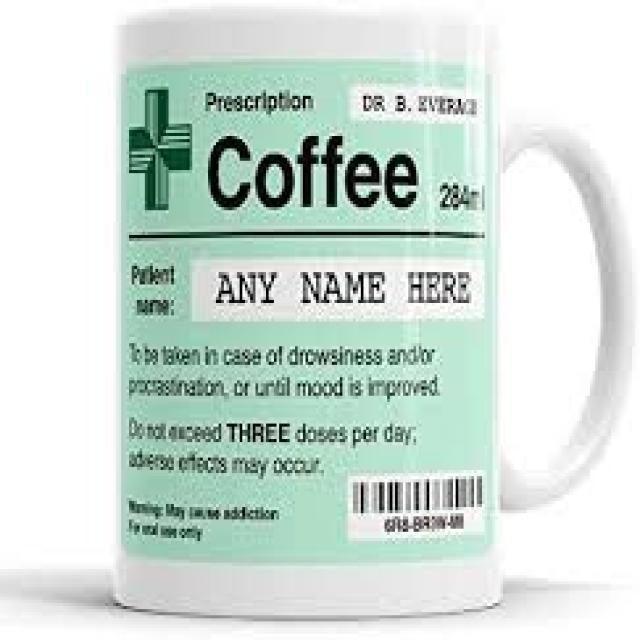taza: (82, 8, 635, 630)
